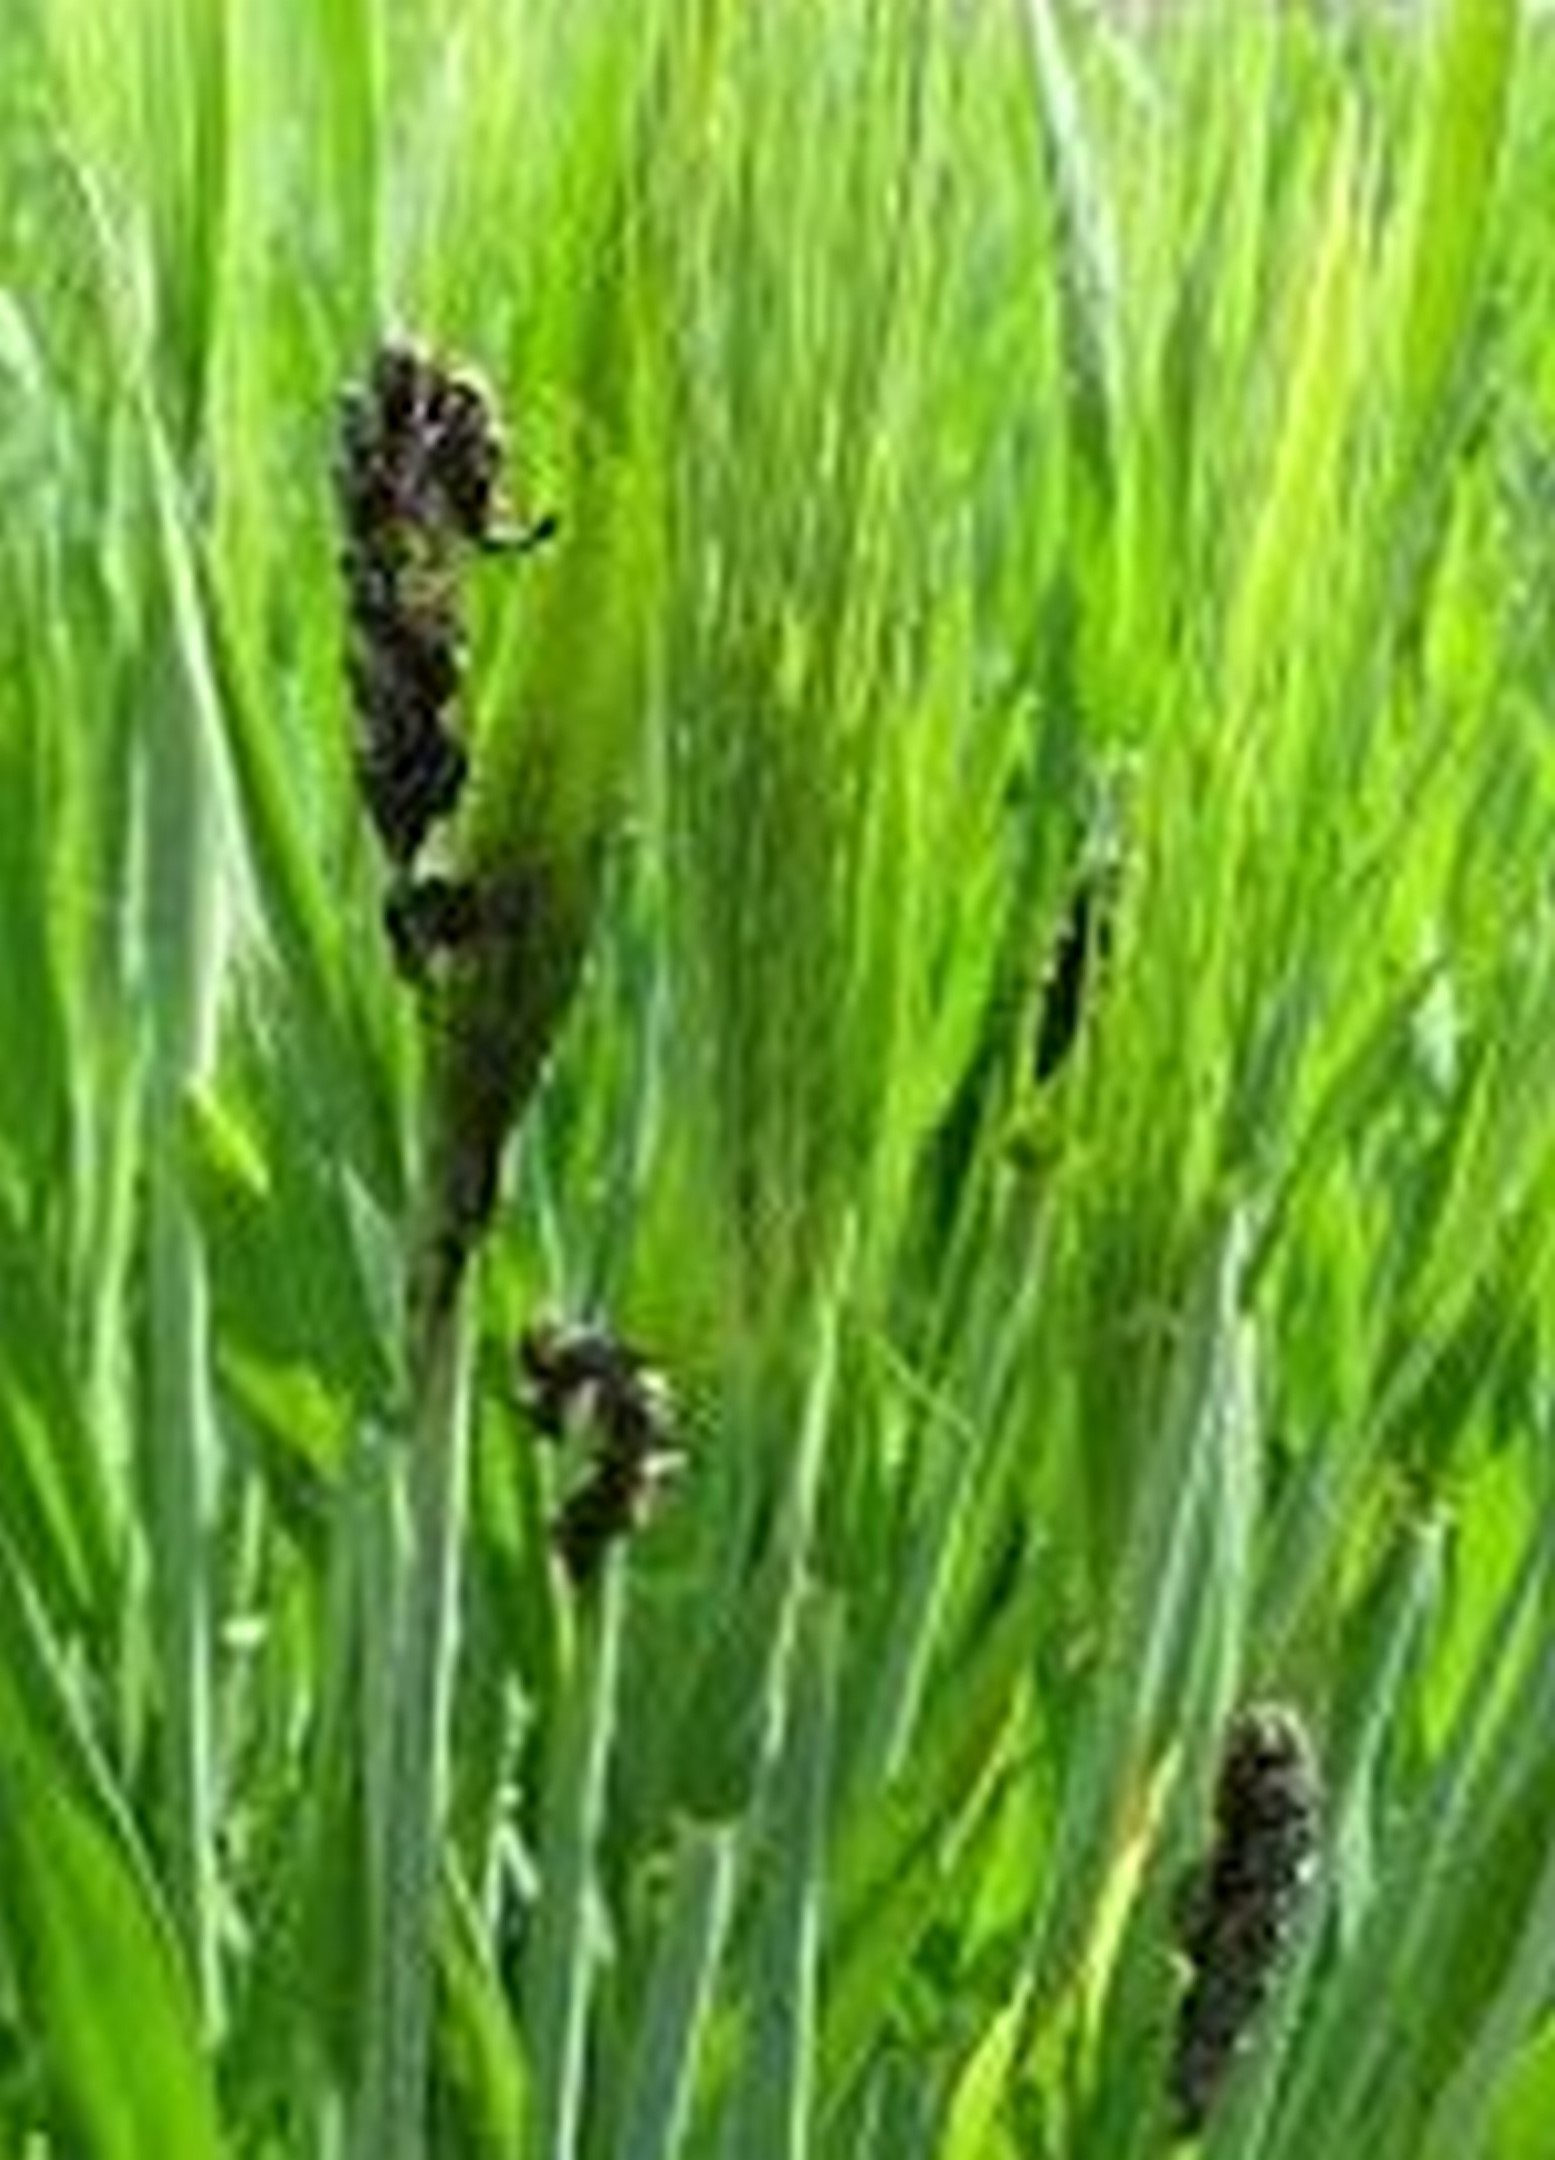Wheat Loose Smut: (290, 325, 545, 877), (1169, 1687, 1391, 2111)
